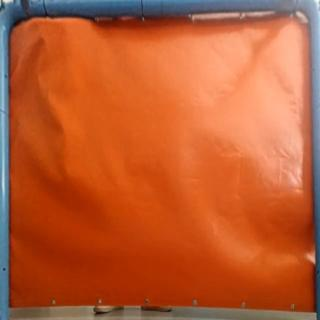Hit-hRxx: (37, 29, 48, 42)
